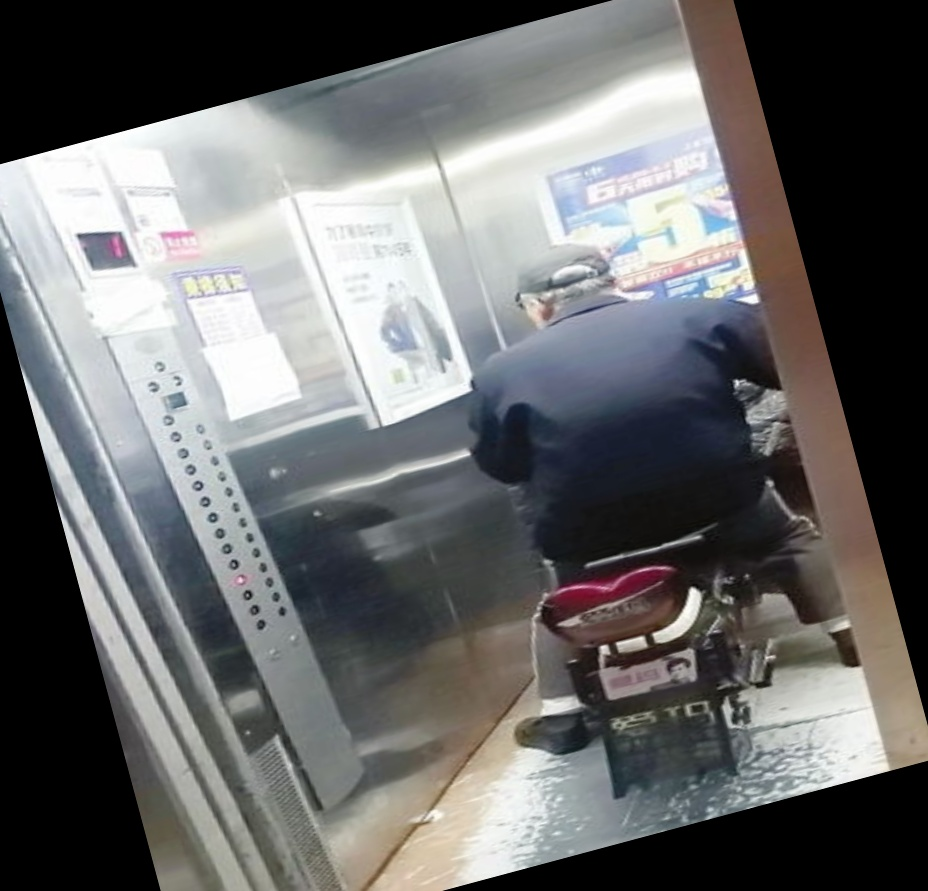ebike: (530, 526, 782, 801)
person: (470, 249, 869, 755)
